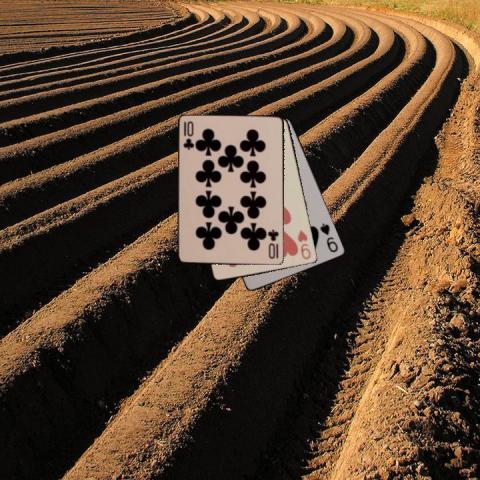10c: (265, 227, 280, 260), (181, 118, 195, 151)
9h: (294, 227, 313, 260)
9s: (317, 221, 340, 254)
